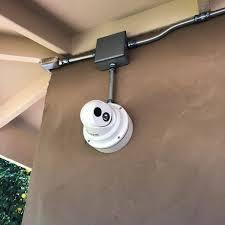Security camera: (79, 30, 134, 153), (79, 98, 133, 153)
